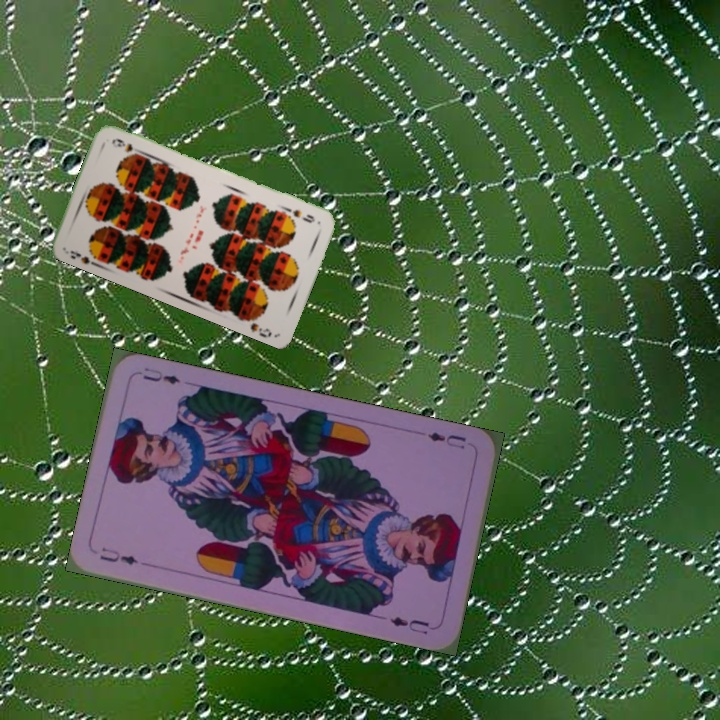EU: (95, 543, 141, 568), (424, 428, 468, 452)
S9: (66, 246, 103, 269), (281, 204, 317, 226)
